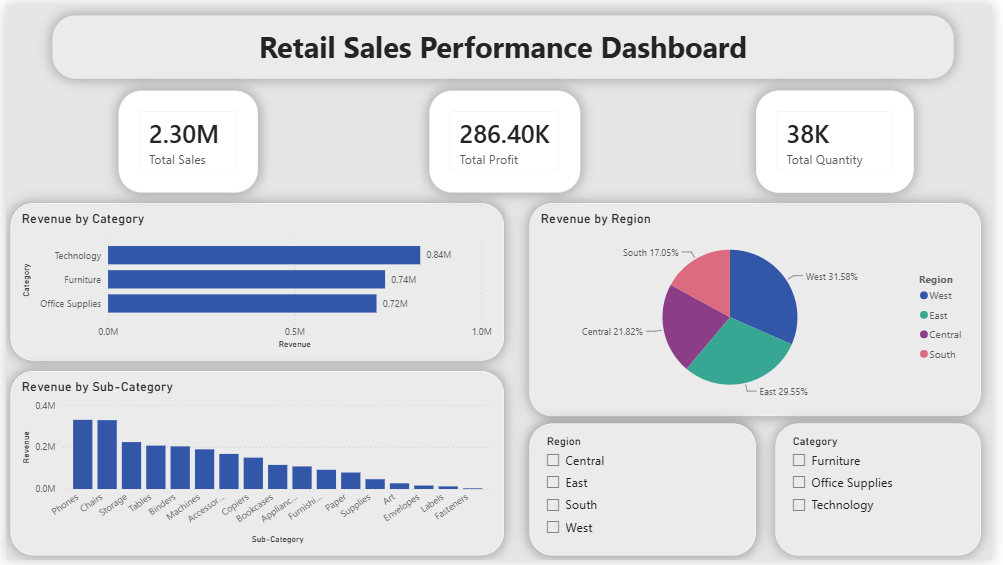

The dashboard page shown, as its layout file describes it:
{"tool":"powerbi","page":{"name":"Page 1","canvas":[1280,720],"ordinal":0},"visuals":[{"type":"clusteredBarChart","fields":{"Category":["SampleSuperstore.Category"],"Y":["Sum(SampleSuperstore.Sales)"]},"box":[5.8,257,640.6,204.5],"z":0},{"type":"pieChart","fields":{"Category":["SampleSuperstore.Region"],"Y":["Sum(SampleSuperstore.Sales)"]},"box":[679.6,257,586.1,276.5],"z":1000},{"type":"clusteredColumnChart","fields":{"Category":["SampleSuperstore.Sub-Category"],"Y":["Sum(SampleSuperstore.Sales)"]},"box":[5.8,475.1,640.6,239.5],"z":2000},{"type":"slicer","fields":{"Values":["SampleSuperstore.Region"]},"box":[679.6,543.3,294,171.4],"z":3000},{"type":"slicer","fields":{"Values":["SampleSuperstore.Category"]},"box":[998.9,543.3,266.8,171.4],"z":4000},{"type":"textbox","box":[60.4,13.6,1170.3,81.8],"z":5000},{"type":"cardVisual","fields":{"Data":["Sum(SampleSuperstore.Sales)"]},"box":[146,111,181.1,132.4],"z":5001},{"type":"cardVisual","fields":{"Data":["Sum(SampleSuperstore.Quantity)"]},"box":[973.6,111,204.5,132.4],"z":5002},{"type":"cardVisual","fields":{"Data":["Sum(SampleSuperstore.Profit)"]},"box":[549.1,111,196.7,132.4],"z":5003}]}

Visuals, with their boxes in screenshot pixels (x1, y1, x2, y2), scaled from the page's 1280x720 canvas onto the 1003x565 screenshot:
clusteredBarChart - SampleSuperstore.Category x Sum(SampleSuperstore.Sales): {"x1": 5, "y1": 202, "x2": 507, "y2": 362}
pieChart - SampleSuperstore.Region x Sum(SampleSuperstore.Sales): {"x1": 533, "y1": 202, "x2": 992, "y2": 419}
clusteredColumnChart - SampleSuperstore.Sub-Category x Sum(SampleSuperstore.Sales): {"x1": 5, "y1": 373, "x2": 507, "y2": 561}
slicer - SampleSuperstore.Region: {"x1": 533, "y1": 426, "x2": 763, "y2": 561}
slicer - SampleSuperstore.Category: {"x1": 783, "y1": 426, "x2": 992, "y2": 561}
textbox: {"x1": 47, "y1": 11, "x2": 964, "y2": 75}
cardVisual - Sum(SampleSuperstore.Sales): {"x1": 114, "y1": 87, "x2": 256, "y2": 191}
cardVisual - Sum(SampleSuperstore.Quantity): {"x1": 763, "y1": 87, "x2": 923, "y2": 191}
cardVisual - Sum(SampleSuperstore.Profit): {"x1": 430, "y1": 87, "x2": 584, "y2": 191}
